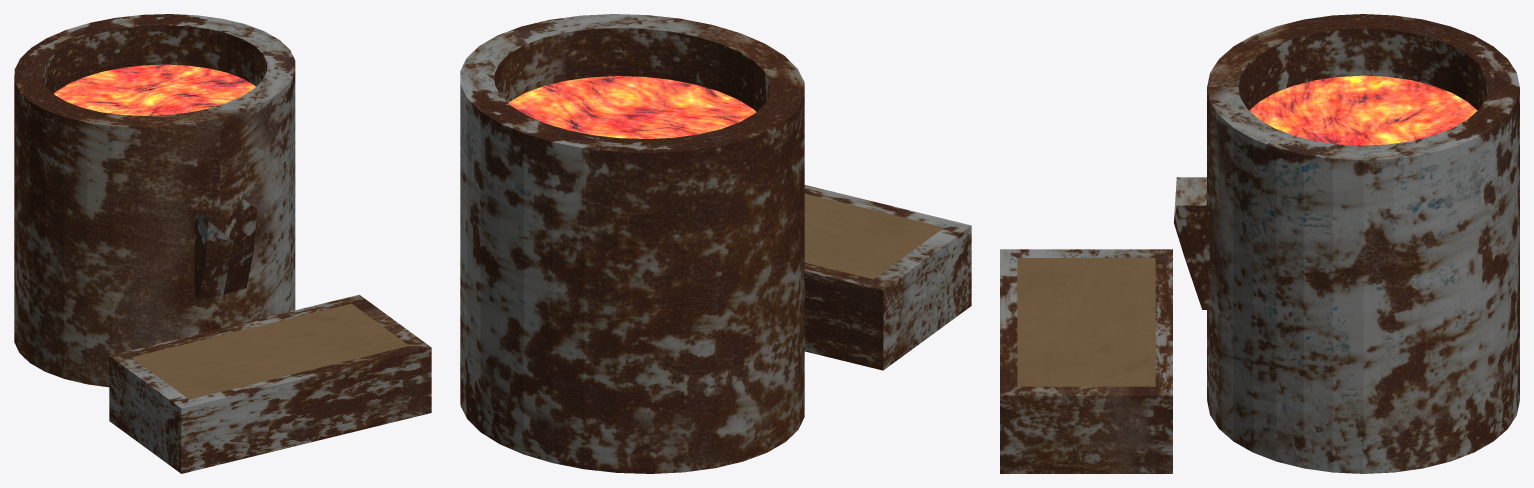
Rendered from smelter.fbx.
3 views of the same model, side by side, from view 1: azimuth 30°, elevation 25°; view 2: azimuth 150°, elevation 25°; view 3: azimuth 270°, elevation 25° (orthographic). The views are drawn at different scales.
Visible parts, largest first — view 1: Smelter, Base, Cast, Lava; view 2: Smelter, Base, Lava, Cast; view 3: Smelter, Base, Cast, Lava.
Boxes of the visible parts, <box> form: Smelter: <box>14,14,295,387</box>; Base: <box>109,294,431,473</box>; Cast: <box>132,303,408,399</box>; Lava: <box>54,64,255,115</box>; Smelter: <box>460,14,804,473</box>; Base: <box>804,185,971,370</box>; Lava: <box>508,76,756,138</box>; Cast: <box>804,193,944,279</box>; Smelter: <box>1173,14,1519,473</box>; Base: <box>1000,249,1172,473</box>; Cast: <box>1017,258,1155,386</box>; Lava: <box>1249,75,1477,145</box>.
Bounding box in the file's own units: 100 × 100 × 150.
